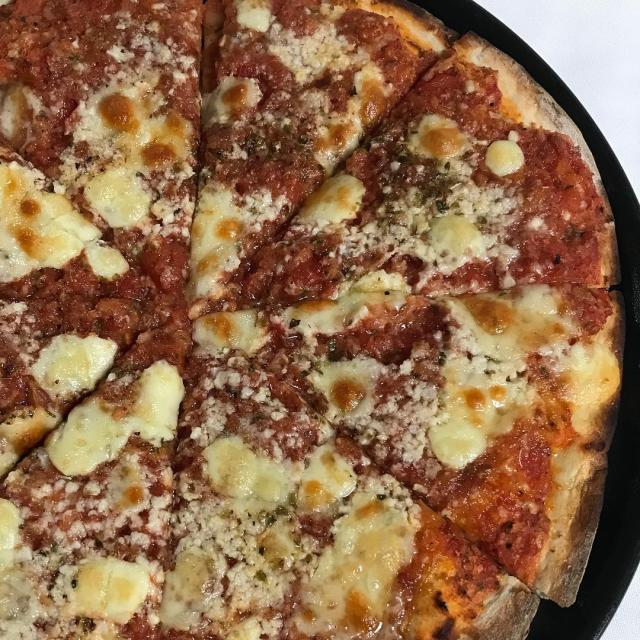pizza: (0, 0, 622, 639)
